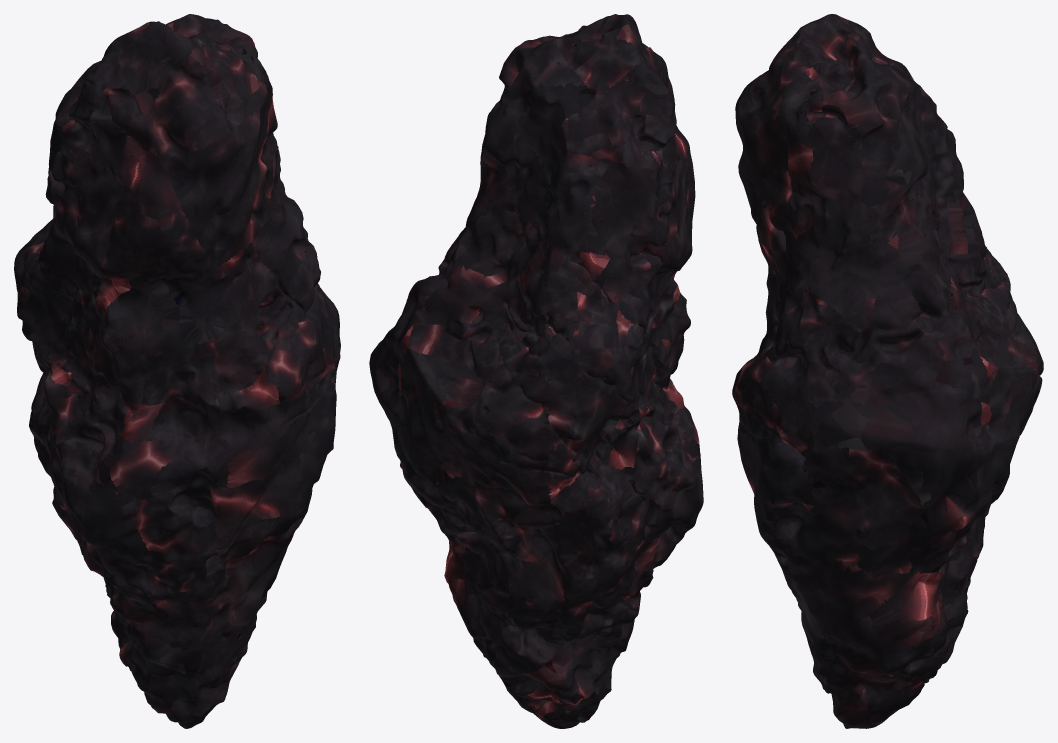
The model's file is shard-04-low.glb.
The picture shows the model from 3 angles, left to right: view 1: azimuth 30°, elevation 25°; view 2: azimuth 150°, elevation 25°; view 3: azimuth 270°, elevation 25°; orthographic projection. The views are drawn at different scales.
Visible parts, largest first — view 1: Mesh_0; view 2: Mesh_0; view 3: Mesh_0.
Part boxes in pixels (x1,y1,x2,y2): Mesh_0: [14, 14, 340, 728]; Mesh_0: [369, 14, 703, 728]; Mesh_0: [732, 14, 1043, 728].
Size of the model in its own units: 0.7924 by 1.9 by 0.775.
Materials: 1 (1 with a texture image).
